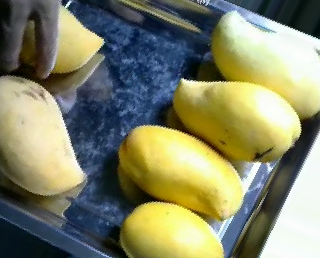Mango: (121, 120, 244, 224), (209, 9, 320, 121), (0, 72, 95, 195), (172, 74, 303, 163), (13, 2, 108, 72), (117, 199, 225, 257)
